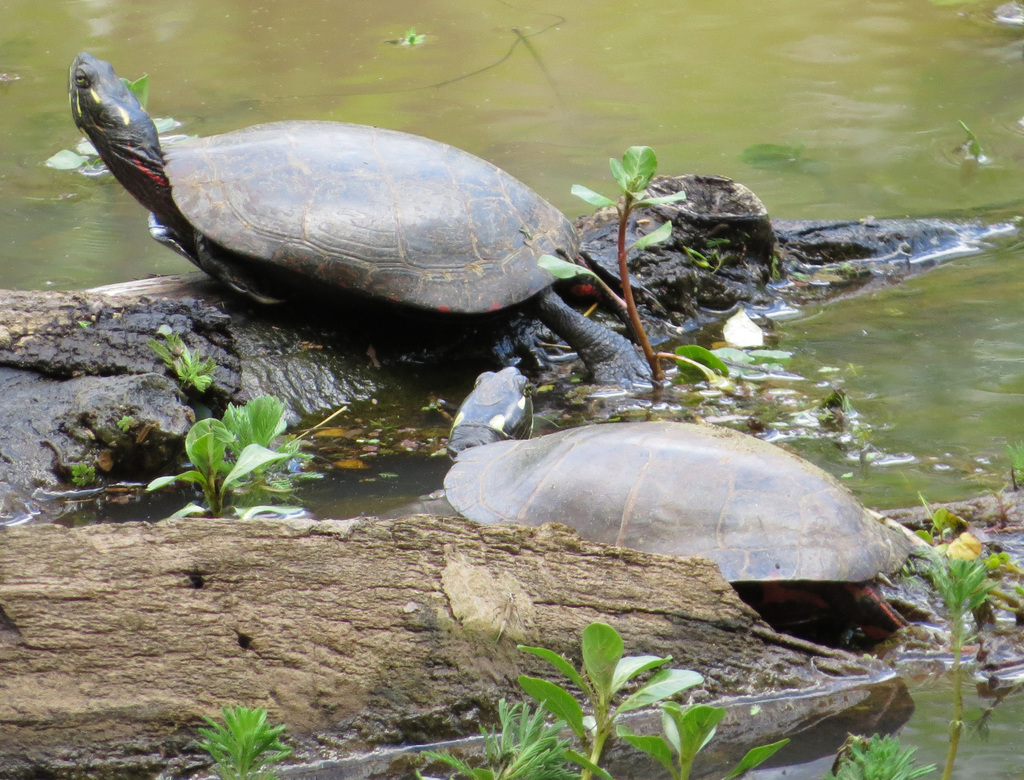Sea turtles: (67, 45, 657, 388), (435, 362, 933, 594)
